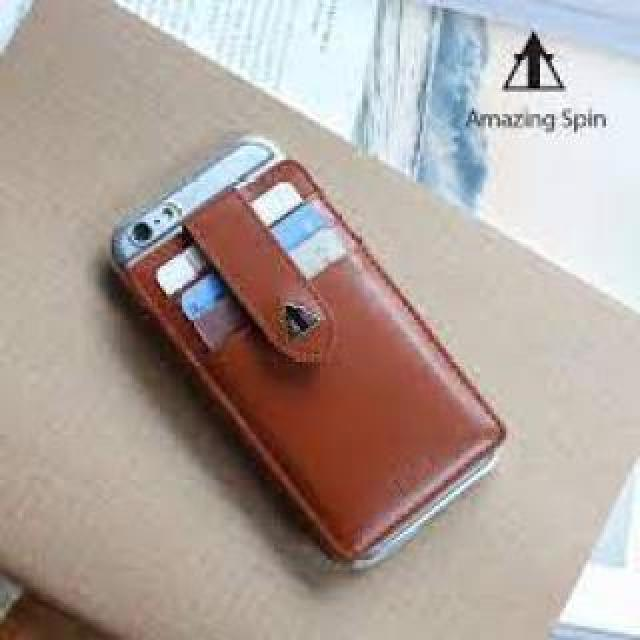smart phone: (100, 102, 527, 570)
